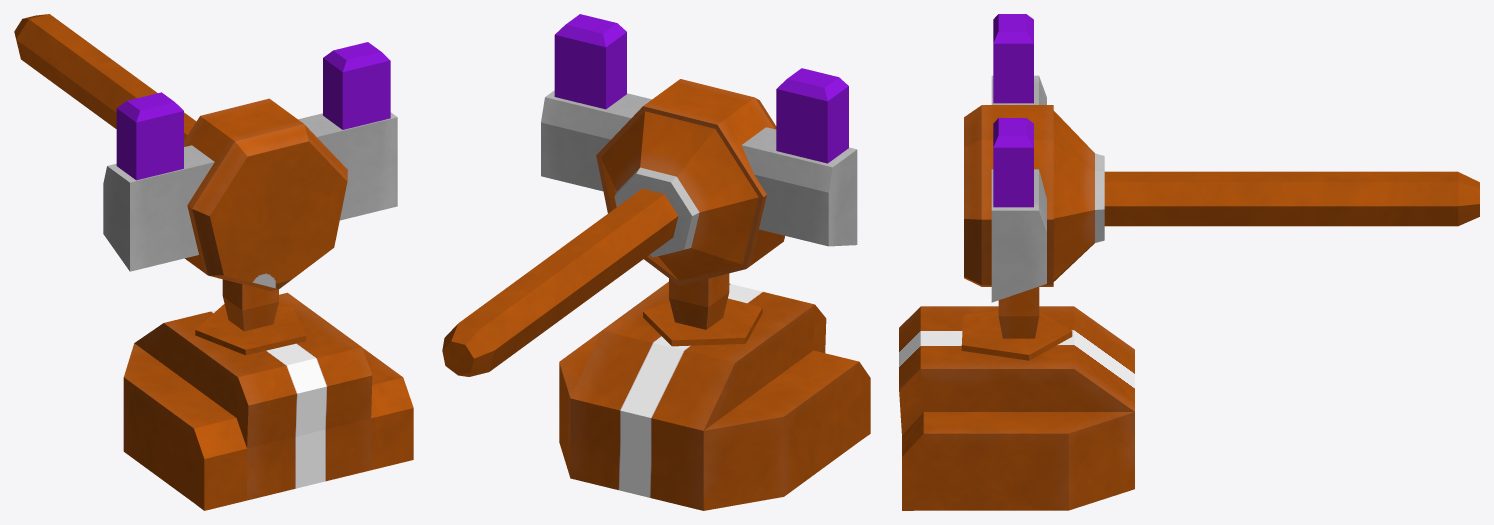
Rendered from TorreLongoAMAST3.fbx.
3 renders of one model, left to right at view 1: azimuth 30°, elevation 25°; view 2: azimuth 150°, elevation 25°; view 3: azimuth 270°, elevation 25°, orthographic. The views are drawn at different scales.
Parts seen in each view (by area): view 1: Torre, Base.001; view 2: Torre, Base.001; view 3: Torre, Base.001.
Part boxes in pixels (x1,y1,x2,y2): Torre: (14,14,397,331); Base.001: (123,292,413,510); Torre: (442,14,857,376); Base.001: (559,281,870,510); Torre: (964,14,1479,338); Base.001: (899,306,1134,510).
Bounding box in the file's own units: 3.66 × 4.84 × 6.66.
